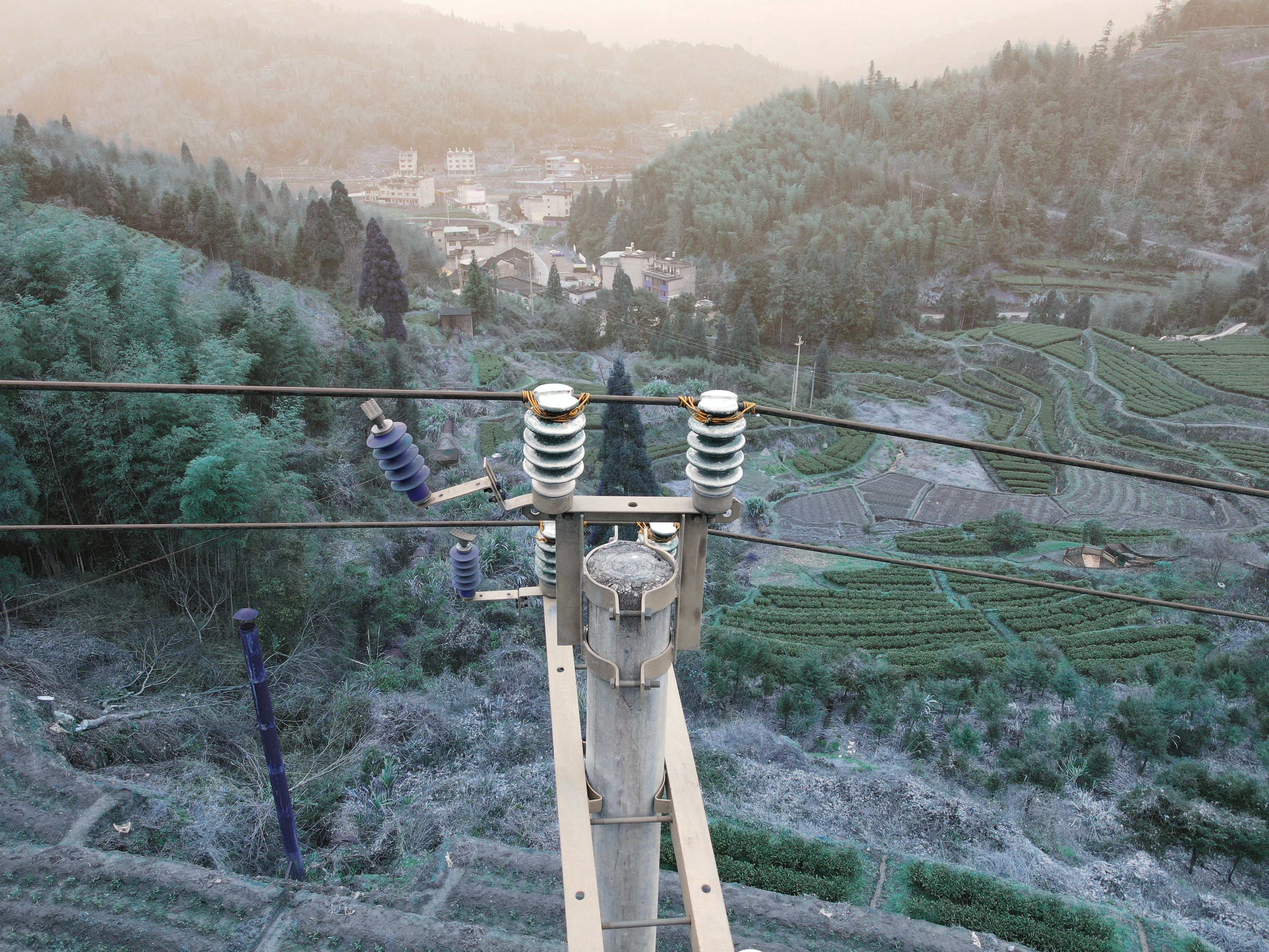severe_soiling_no_discharge_whole: (516, 384, 590, 513), (682, 391, 746, 515), (531, 522, 556, 596)
